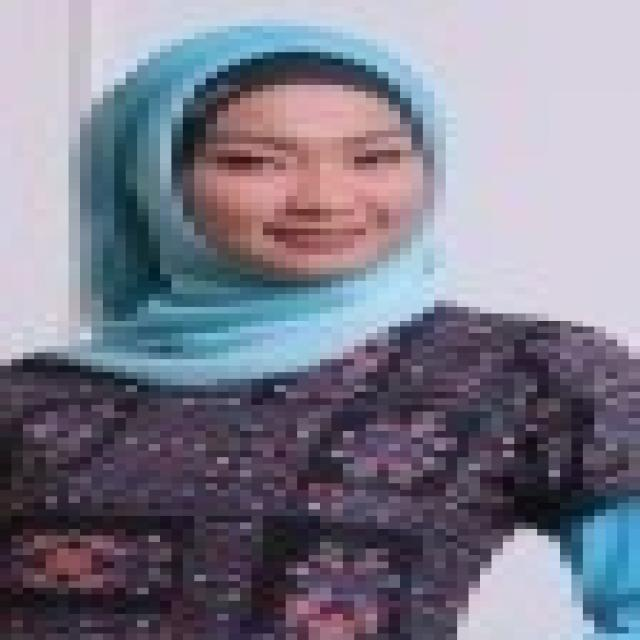head: (103, 25, 475, 286)
